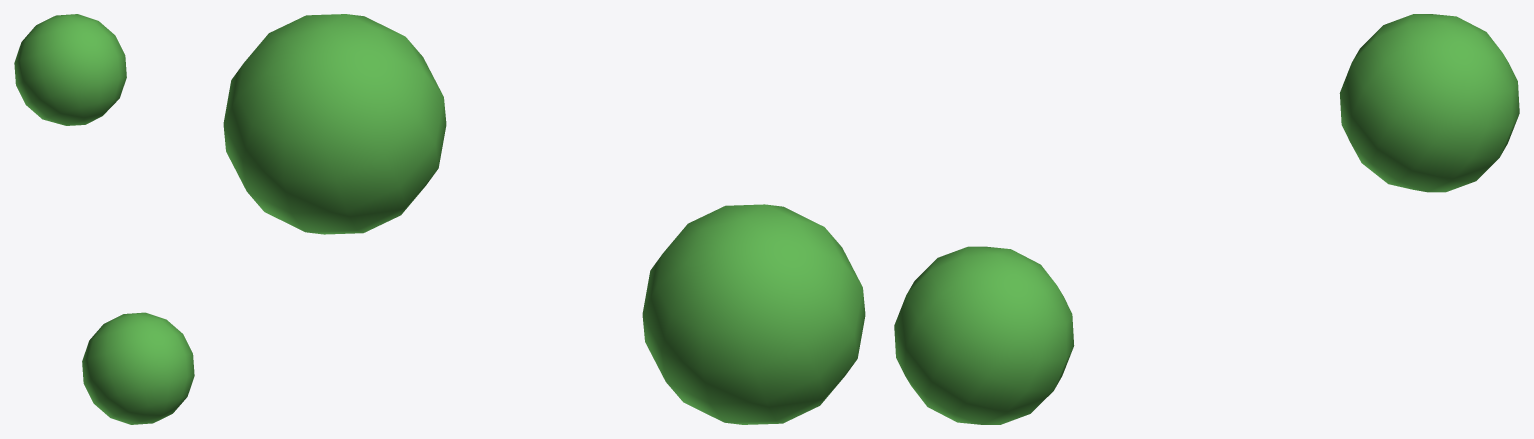
The model's file is linfatico-occipital-nodes-r.glb.
3 views of the same model, side by side, from view 1: azimuth 30°, elevation 25°; view 2: azimuth 150°, elevation 25°; view 3: azimuth 270°, elevation 25° (orthographic). The views are drawn at different scales.
Parts seen in each view (by area): view 1: Occipital nodes.r; view 2: Occipital nodes.r; view 3: Occipital nodes.r.
Part boxes in pixels (x1,y1,x2,y2): Occipital nodes.r: [14, 14, 194, 424]; Occipital nodes.r: [223, 14, 865, 424]; Occipital nodes.r: [894, 14, 1519, 424].
Bounding box in the file's own units: 0.00448 × 0.00712 × 0.00893.
